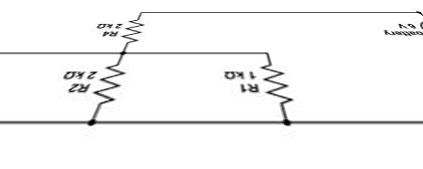resistor: (257, 60, 298, 108), (87, 64, 127, 106), (115, 16, 145, 42)
